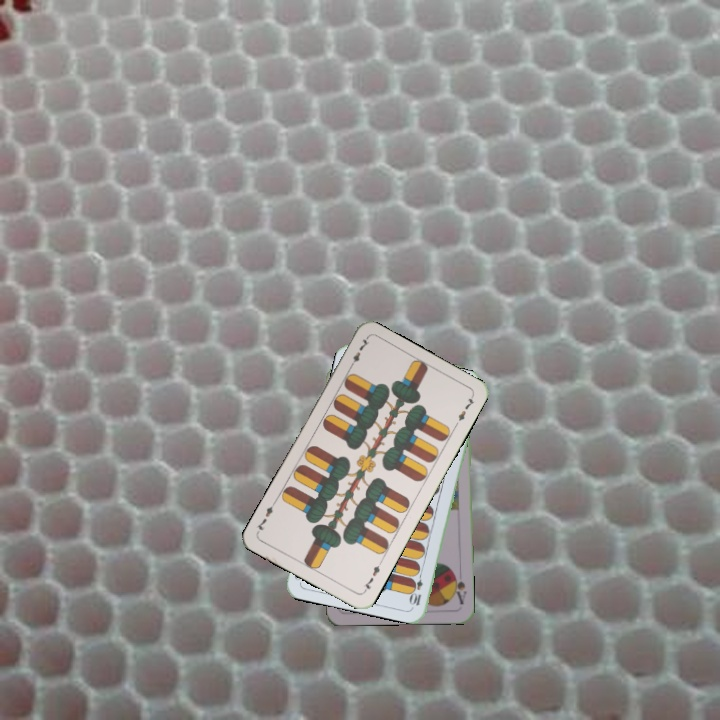E10: (408, 567, 426, 608)
E7: (345, 334, 372, 371), (359, 558, 385, 595)
SA: (450, 567, 469, 607)
